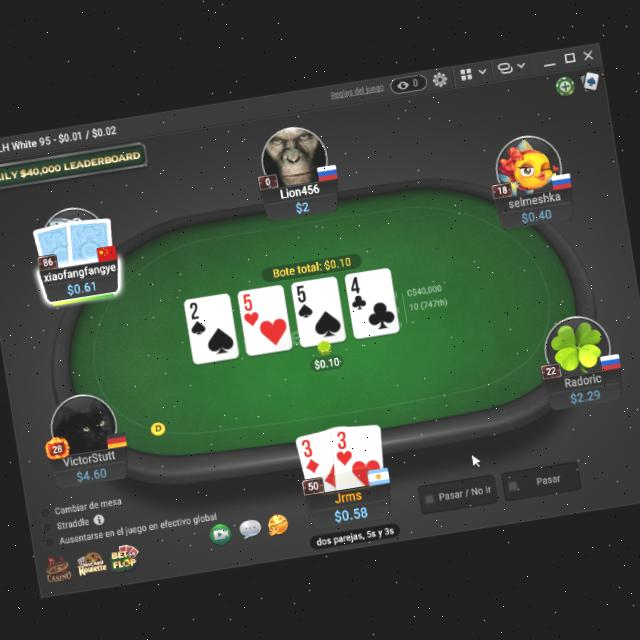2s: (186, 297, 208, 335)
3d: (299, 433, 322, 473)
3h: (332, 426, 354, 466)
4c: (346, 272, 368, 310)
5h: (239, 289, 261, 327)
5s: (292, 280, 315, 319)
9h: (331, 426, 355, 466)
bet_text: (312, 352, 342, 369)
card_back: (61, 210, 118, 266), (30, 216, 82, 271)
dealer: (148, 417, 167, 436)
pot_text: (270, 253, 353, 278)
stack_text: (333, 500, 370, 522), (64, 275, 98, 297), (518, 202, 552, 222), (567, 383, 602, 402), (75, 462, 109, 481), (293, 196, 312, 212)
